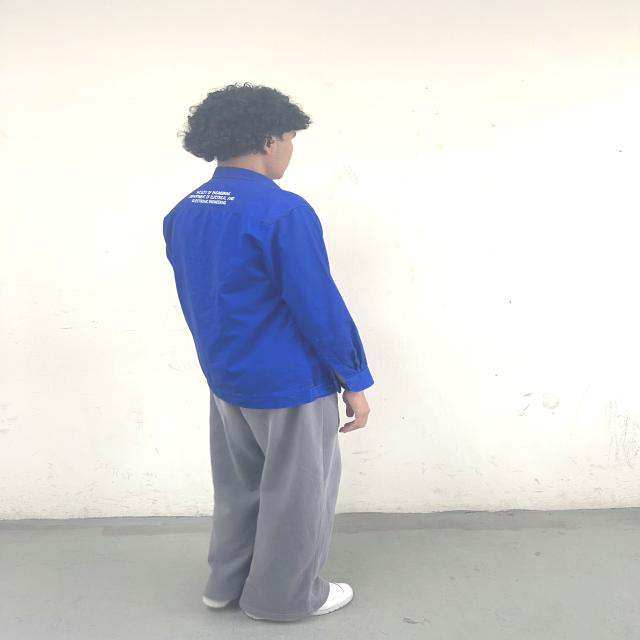person_with_labcoat: (163, 83, 373, 621)
